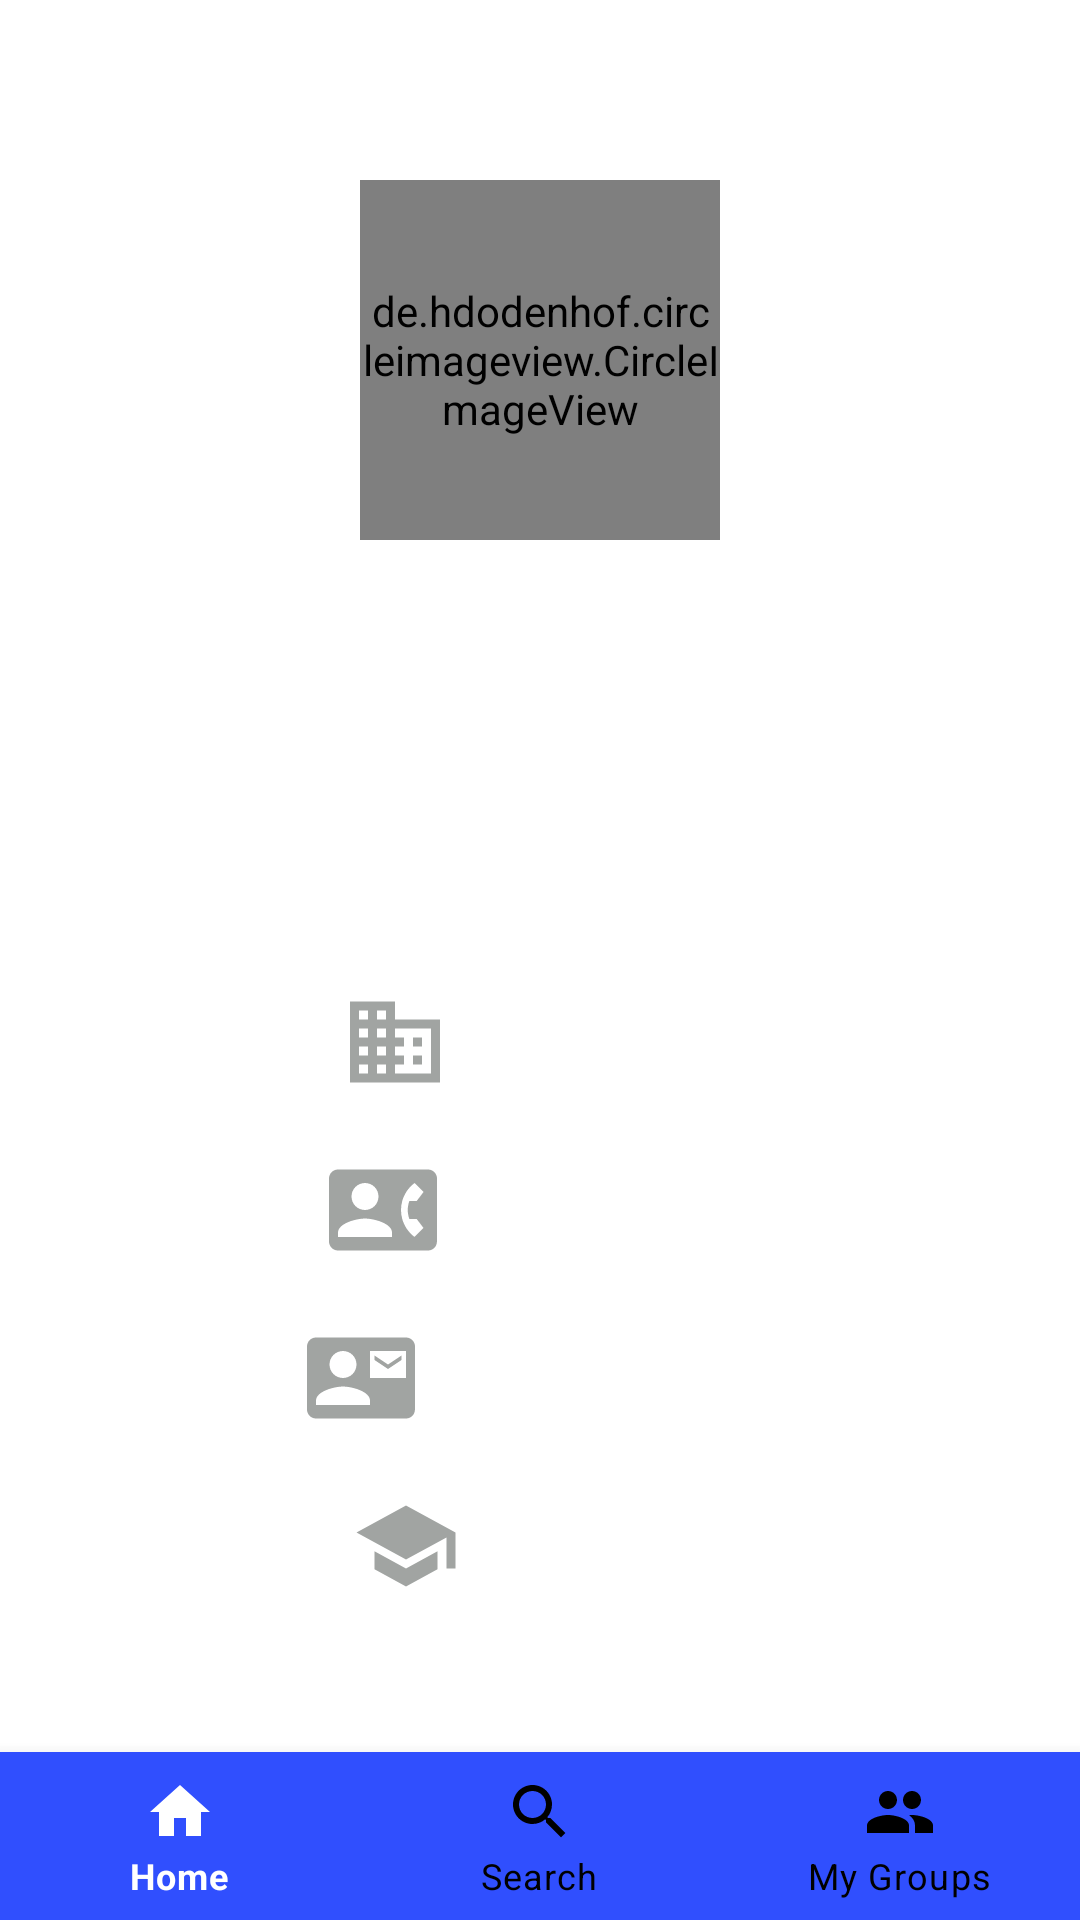

Named icons in this screenshot (1080x1920) and their bounding boxes, (x1, y1, x2, y2):
domain: (350, 1001, 440, 1083)
email: (307, 1337, 415, 1419)
phone: (329, 1169, 437, 1251)
